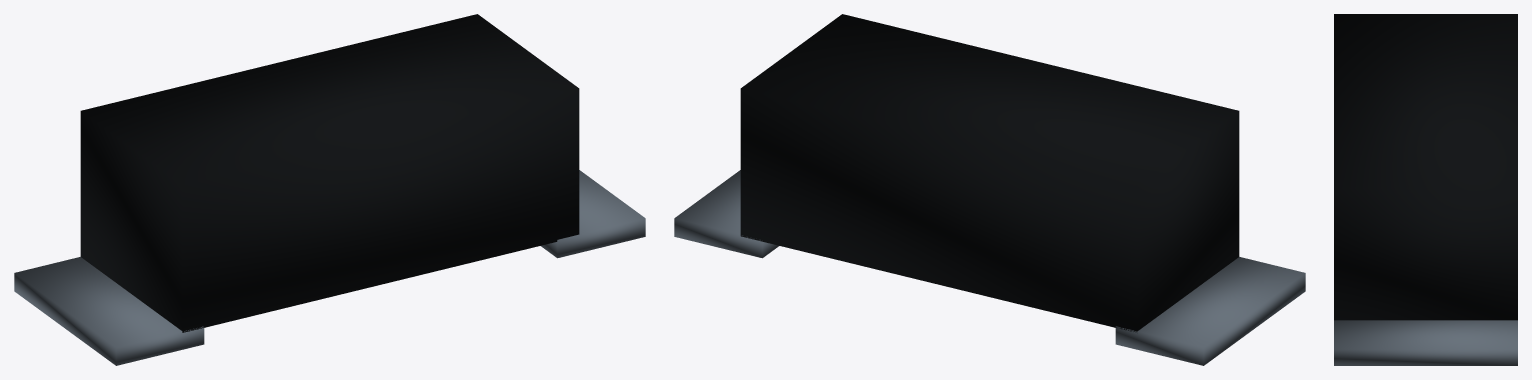
3 renders of one model, left to right at view 1: azimuth 30°, elevation 25°; view 2: azimuth 150°, elevation 25°; view 3: azimuth 270°, elevation 25°, orthographic. The views are drawn at different scales.
Visible parts, largest first — view 1: Part_000, Part_001, Part_002; view 2: Part_000, Part_001, Part_002; view 3: Part_000, Part_002.
Boxes of the visible parts, bbox=[...] form: Part_000: bbox=[80, 14, 579, 332]; Part_001: bbox=[14, 257, 204, 365]; Part_002: bbox=[541, 170, 645, 258]; Part_000: bbox=[740, 14, 1239, 332]; Part_001: bbox=[1115, 257, 1305, 365]; Part_002: bbox=[674, 170, 778, 258]; Part_000: bbox=[1334, 14, 1517, 320]; Part_002: bbox=[1334, 320, 1517, 365].
Bounding box in the file's own units: 0.006 × 0.002 × 0.00178.
